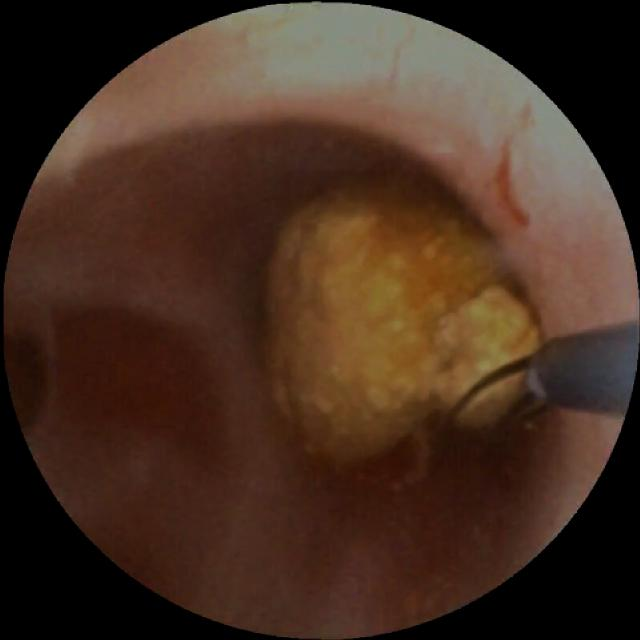stone: (260, 173, 543, 465)
tissue: (14, 17, 632, 614)
